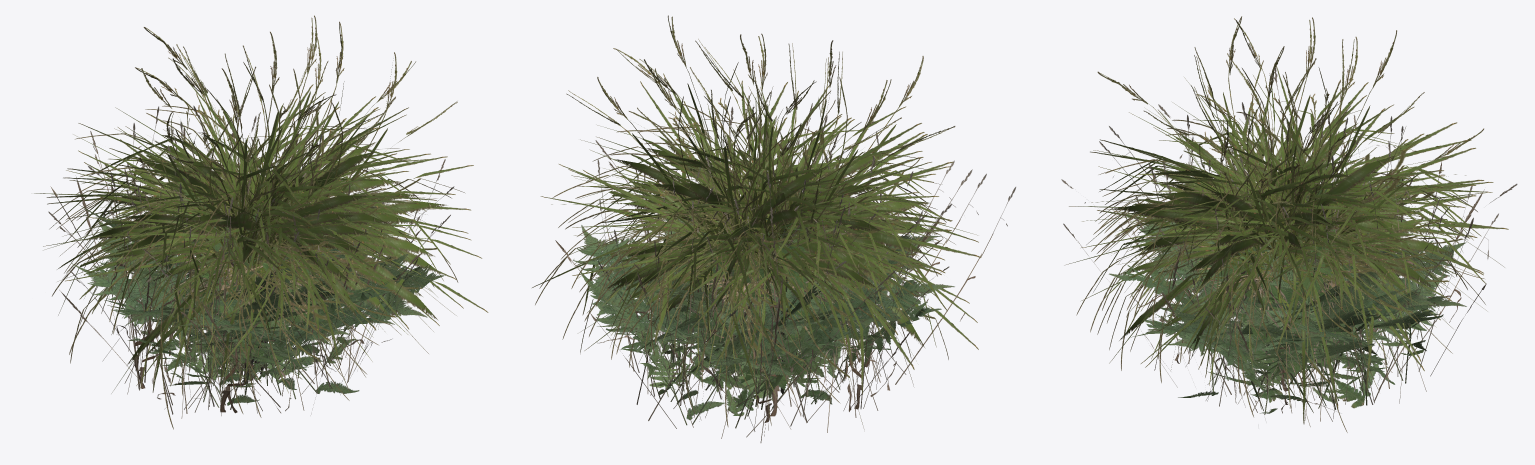
Rendered from ENV_Plants.glb.
The picture shows the model from 3 angles, left to right: view 1: azimuth 30°, elevation 25°; view 2: azimuth 150°, elevation 25°; view 3: azimuth 270°, elevation 25°; orthographic projection. The views are drawn at different scales.
Visible parts, largest first — view 1: BUSH_GRASS_2, BUSH_GRASS_1, BUSH_GRASS_3, FERN_1, FERN_3, FERN_2, GRASS_DEAD_2, GRASS_DEAD_1, NETTLE_1, NETTLE_2; view 2: BUSH_GRASS_2, BUSH_GRASS_1, BUSH_GRASS_3, FERN_1, GRASS_DEAD_2, GRASS_DEAD_1, FERN_2, FERN_3, NETTLE_1, NETTLE_2; view 3: BUSH_GRASS_2, BUSH_GRASS_1, BUSH_GRASS_3, FERN_1, FERN_2, GRASS_DEAD_1, GRASS_DEAD_2, NETTLE_1, FERN_3, NETTLE_2.
Part boxes in pixels (left/top/right/bottom): BUSH_GRASS_2: left=60, top=15, right=488, bottom=417; BUSH_GRASS_1: left=45, top=31, right=470, bottom=429; BUSH_GRASS_3: left=34, top=21, right=434, bottom=382; FERN_1: left=79, top=205, right=427, bottom=385; FERN_3: left=71, top=209, right=399, bottom=407; FERN_2: left=100, top=193, right=445, bottom=399; GRASS_DEAD_2: left=48, top=116, right=454, bottom=414; GRASS_DEAD_1: left=59, top=105, right=450, bottom=418; NETTLE_1: left=155, top=199, right=325, bottom=383; NETTLE_2: left=173, top=189, right=327, bottom=377; BUSH_GRASS_2: left=535, top=15, right=978, bottom=426; BUSH_GRASS_1: left=539, top=34, right=980, bottom=411; BUSH_GRASS_3: left=532, top=56, right=955, bottom=429; FERN_1: left=573, top=184, right=954, bottom=428; GRASS_DEAD_2: left=597, top=103, right=1015, bottom=437; GRASS_DEAD_1: left=555, top=107, right=986, bottom=442; FERN_2: left=604, top=181, right=940, bottom=390; FERN_3: left=599, top=219, right=941, bottom=404; NETTLE_1: left=675, top=203, right=843, bottom=392; NETTLE_2: left=685, top=223, right=819, bottom=393; BUSH_GRASS_2: left=1081, top=17, right=1491, bottom=432; BUSH_GRASS_1: left=1069, top=16, right=1508, bottom=395; BUSH_GRASS_3: left=1066, top=30, right=1504, bottom=424; FERN_1: left=1109, top=176, right=1466, bottom=412; FERN_2: left=1132, top=217, right=1445, bottom=414; GRASS_DEAD_1: left=1099, top=67, right=1486, bottom=420; GRASS_DEAD_2: left=1061, top=102, right=1517, bottom=426; NETTLE_1: left=1214, top=198, right=1353, bottom=382; FERN_3: left=1151, top=221, right=1420, bottom=385; NETTLE_2: left=1215, top=167, right=1356, bottom=384.
Size of the model in its own units: 1.71 by 1.38 by 1.68.
4 materials, 4 textured.
